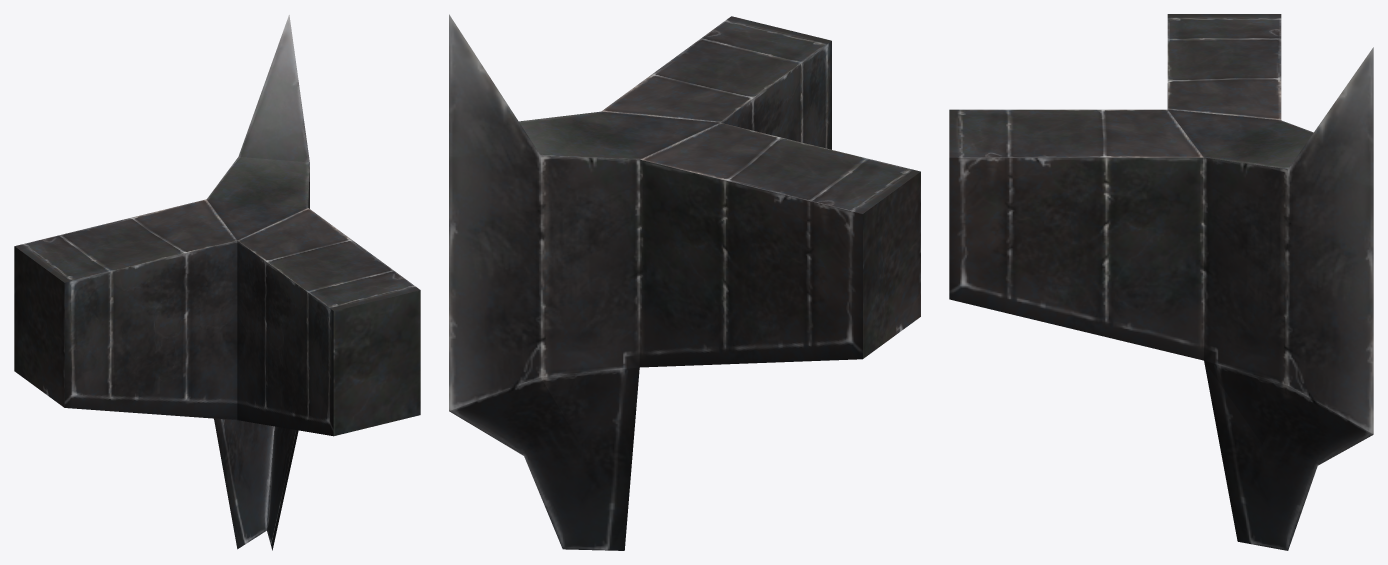
File: A_zhuanjiao001.fbx
3 renders of one model, left to right at view 1: azimuth 30°, elevation 25°; view 2: azimuth 150°, elevation 25°; view 3: azimuth 270°, elevation 25°, orthographic. The views are drawn at different scales.
Parts seen in each view (by area): view 1: A_zhuanjiao001; view 2: A_zhuanjiao001; view 3: A_zhuanjiao001.
Part boxes in pixels (x1,y1,x2,y2): A_zhuanjiao001: [14, 15, 420, 550]; A_zhuanjiao001: [449, 14, 920, 550]; A_zhuanjiao001: [949, 14, 1373, 550].
Size of the model in its own units: 215 by 309 by 221.
